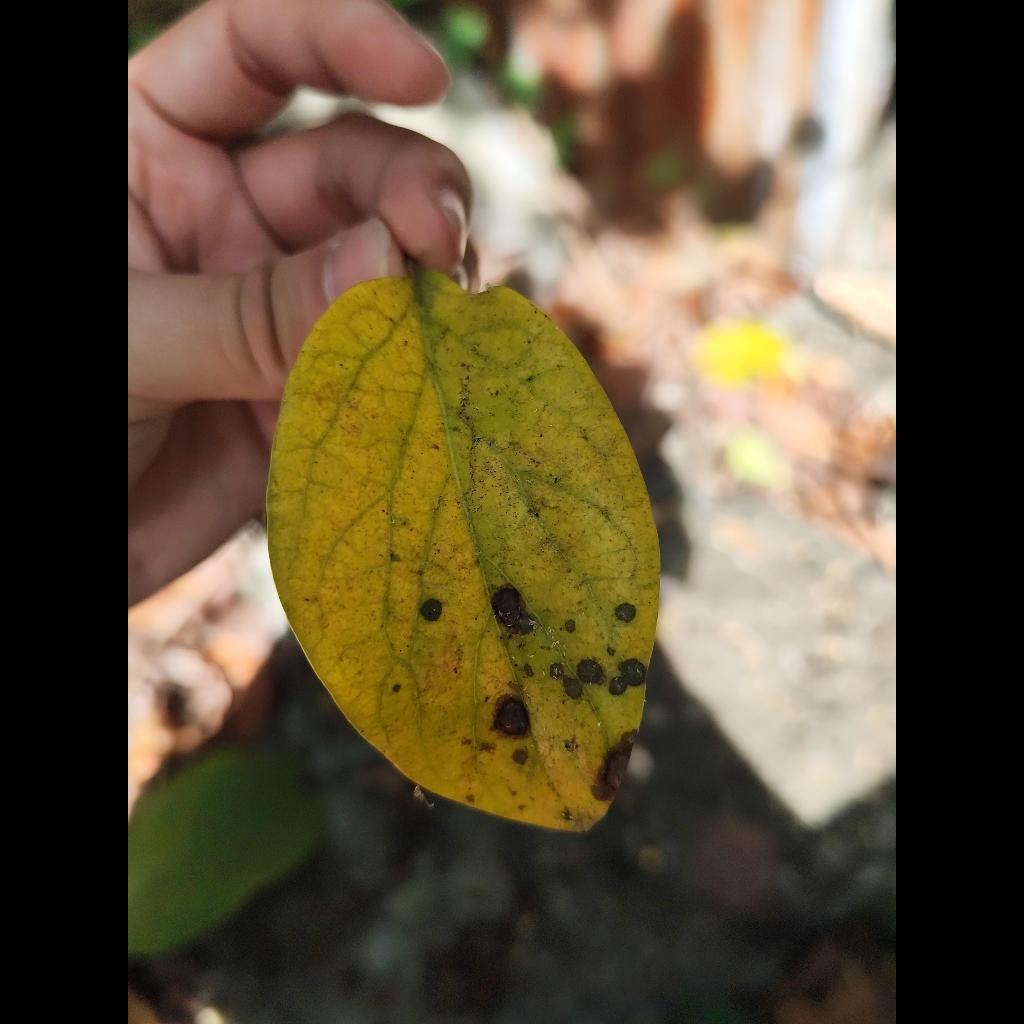nutrient_deficiency: (268, 268, 659, 830)
